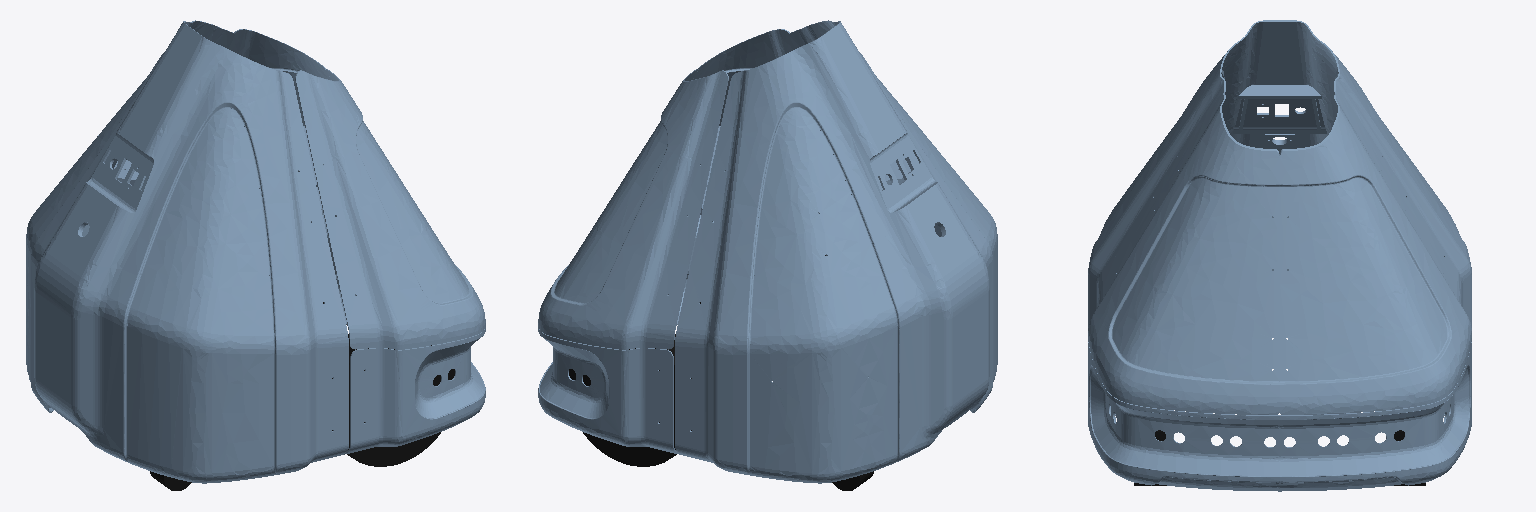
URDF robot description (verter_cad_preview):
<?xml version="1.0" ?>
<robot name="verter_cad_preview">
  <!-- Visual review only. Body edge clearance 0.050 m and wheel width 0.050 m confirmed by owner on 2026-09-15. -->
  <link name="base_footprint" />
  <link name="base_link" />
  <joint name="base_joint" type="fixed">
    <parent link="base_footprint" />
    <child link="base_link" />
    <origin xyz="0 0 0.098" />
  </joint>
  <link name="platform">
    <visual>
      <geometry>
        <mesh filename="package://verter_cad_preview/meshes/platform_aligned_m.stl" />
      </geometry>
      <material name="shell">
        <color rgba="0.55 0.65 0.75 1" />
      </material>
    </visual>
  </link>
  <joint name="platform_joint" type="fixed">
    <parent link="base_link" />
    <child link="platform" />
    <origin xyz="0 0 -0.048" />
  </joint>
  <link name="left_wheel">
    <visual>
      <origin rpy="1.5707963267948966 0 0" />
      <geometry>
        <cylinder radius="0.098" length="0.050" />
      </geometry>
      <material name="left_rubber">
        <color rgba="0.12 0.12 0.12 1" />
      </material>
    </visual>
  </link>
  <joint name="left_wheel_joint" type="fixed">
    <parent link="base_link" />
    <child link="left_wheel" />
    <origin xyz="0 0.178 0" />
  </joint>
  <link name="right_wheel">
    <visual>
      <origin rpy="1.5707963267948966 0 0" />
      <geometry>
        <cylinder radius="0.098" length="0.050" />
      </geometry>
      <material name="right_rubber">
        <color rgba="0.12 0.12 0.12 1" />
      </material>
    </visual>
  </link>
  <joint name="right_wheel_joint" type="fixed">
    <parent link="base_link" />
    <child link="right_wheel" />
    <origin xyz="0 -0.178 0" />
  </joint>
  <!-- Static support wheel visual; swivel and bracket geometry not measured. -->
  <link name="rear_left_wheel">
    <visual>
      <origin rpy="1.5707963267948966 0 0" />
      <geometry>
        <cylinder radius="0.025" length="0.040" />
      </geometry>
      <material name="rear_left_rubber">
        <color rgba="0.12 0.12 0.12 1" />
      </material>
    </visual>
  </link>
  <joint name="rear_left_wheel_joint" type="fixed">
    <parent link="base_link" />
    <child link="rear_left_wheel" />
    <origin xyz="-0.291628571 0.109 -0.073" />
  </joint>
  <!-- Static support wheel visual; swivel and bracket geometry not measured. -->
  <link name="rear_right_wheel">
    <visual>
      <origin rpy="1.5707963267948966 0 0" />
      <geometry>
        <cylinder radius="0.025" length="0.040" />
      </geometry>
      <material name="rear_right_rubber">
        <color rgba="0.12 0.12 0.12 1" />
      </material>
    </visual>
  </link>
  <joint name="rear_right_wheel_joint" type="fixed">
    <parent link="base_link" />
    <child link="rear_right_wheel" />
    <origin xyz="-0.291628571 -0.109 -0.073" />
  </joint>
</robot>

--- Render facts (derived) ---
The picture shows the robot from 3 angles, left to right: view 1: azimuth 30°, elevation 25°; view 2: azimuth 150°, elevation 25°; view 3: azimuth 270°, elevation 25°; orthographic projection.
Model verter_cad_preview with 7 links and 6 joints (6 fixed), rooted at base_footprint, posed all joints at 0.
Visible links, largest first — view 1: platform, right_wheel; view 2: platform, left_wheel; view 3: platform.
Boxes of the visible links, <box> form: platform: <box>26,20,485,483</box>; right_wheel: <box>332,334,454,466</box>; platform: <box>538,20,997,483</box>; left_wheel: <box>569,334,691,466</box>; platform: <box>1088,20,1471,491</box>.
Bounding box of the posed robot: 0.5886 × 0.5332 × 0.6104 m (x, y, z).
Meshes: 1 distinct files referenced, 1 mesh visuals loaded (1 binary STL).
